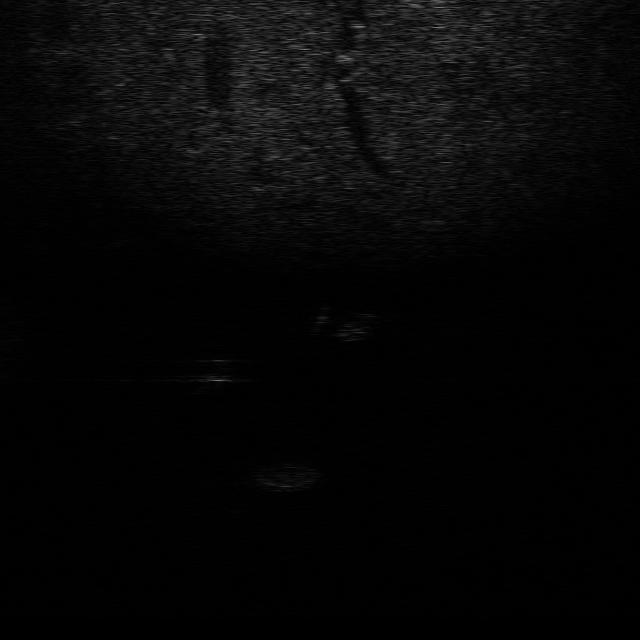ball: (191, 352, 241, 384)
circle cage: (242, 458, 324, 494)
human body: (305, 303, 379, 341)
